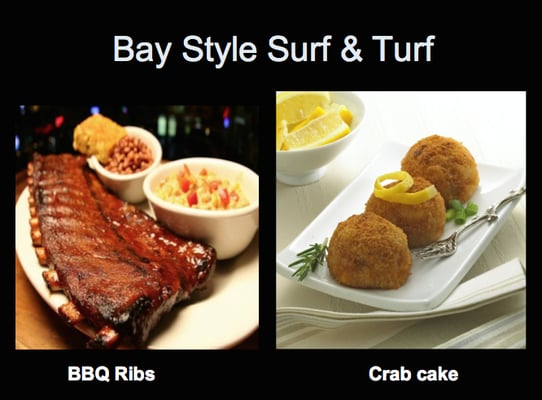soup: (29, 154, 218, 348)
sushi: (143, 156, 260, 261), (277, 92, 366, 187), (85, 123, 163, 204)
